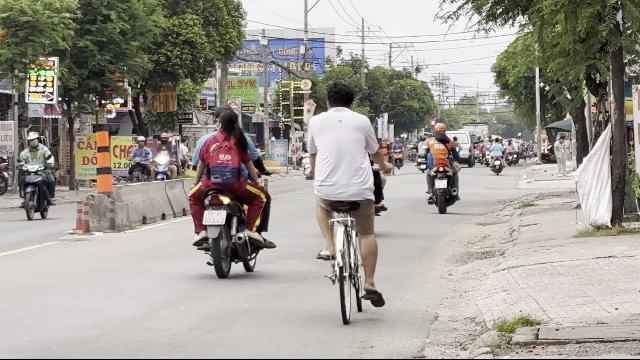licenseplate: (203, 209, 225, 224)
motorcyclist: (186, 103, 274, 278)
nohelmet: (214, 110, 238, 134)
